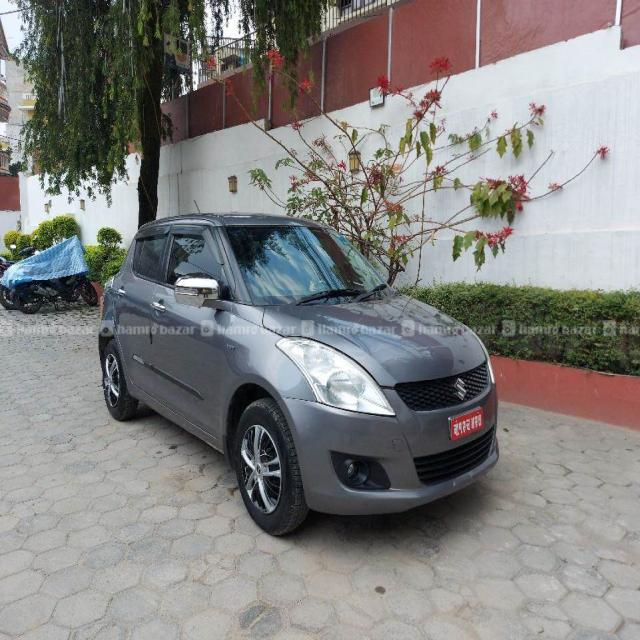License-plate: (443, 410, 493, 440)
